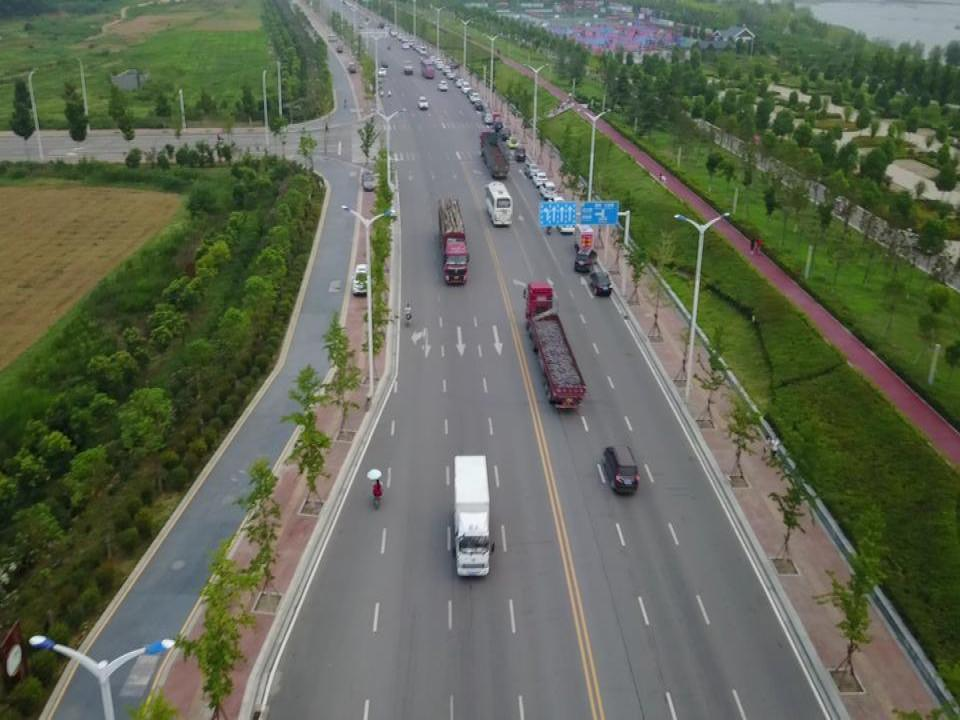bus: (485, 180, 512, 225), (419, 60, 436, 77)
car: (603, 443, 639, 493), (591, 268, 613, 295), (352, 265, 373, 292), (575, 248, 600, 268), (557, 204, 574, 233), (532, 170, 548, 186), (359, 172, 374, 189), (542, 180, 557, 197), (525, 162, 541, 174), (485, 107, 493, 125), (515, 144, 524, 160), (469, 92, 481, 103), (418, 96, 429, 108), (437, 79, 448, 89), (462, 81, 472, 92), (455, 76, 467, 85), (438, 59, 450, 68), (446, 70, 459, 78), (376, 65, 385, 76), (493, 112, 502, 123), (510, 135, 520, 144), (404, 60, 412, 71), (443, 64, 454, 72)
truck: (526, 280, 587, 413), (453, 453, 490, 576), (438, 200, 469, 285), (479, 129, 509, 179), (572, 217, 593, 251)
